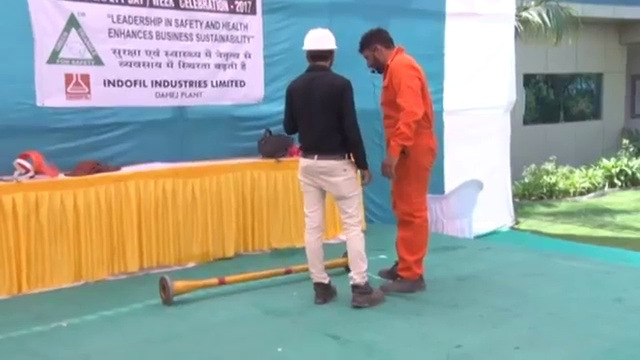helmet: (300, 27, 339, 52)
helmet_off: (358, 26, 396, 76)
helmet_on: (297, 27, 340, 71)
person: (280, 27, 383, 309), (358, 24, 439, 292)
